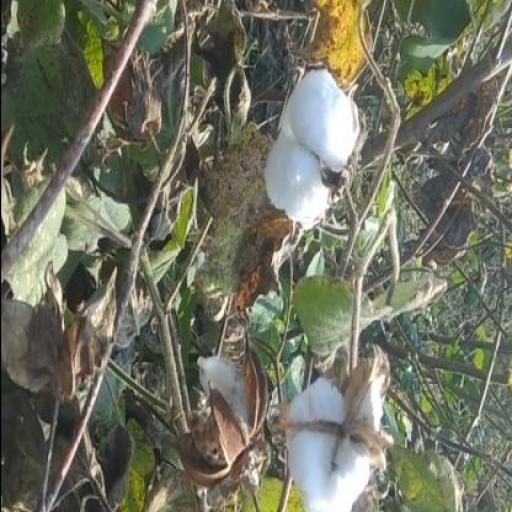cotton_ready: (248, 61, 376, 258), (257, 352, 394, 512)
